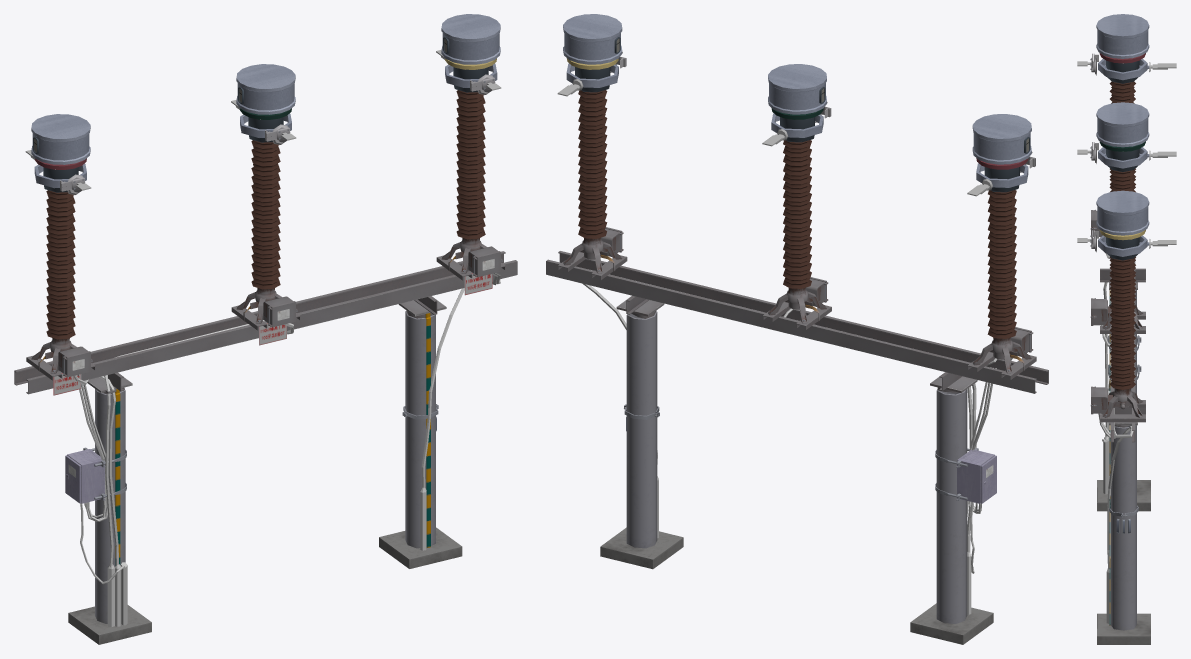
3 renders of one model, left to right at view 1: azimuth 30°, elevation 25°; view 2: azimuth 150°, elevation 25°; view 3: azimuth 270°, elevation 25°, orthographic. The views are drawn at different scales.
Parts seen in each view (by area): view 1: xd-105xl-ct, xd-105xl-ct-youweichuang, xd-105xl-ct-yinxian, xd-105xl-ct-ercijiexianhe, xd-105xl-ct-mingpai; view 2: xd-105xl-ct, xd-105xl-ct-youweichuang, xd-105xl-ct-yinxian, xd-105xl-ct-ercijiexianhe; view 3: xd-105xl-ct, xd-105xl-ct-youweichuang, xd-105xl-ct-yinxian.
Boxes of the visible parts, x1=… form: xd-105xl-ct: x1=14, y1=49, x2=517, y2=644; xd-105xl-ct-youweichuang: x1=31, y1=14, x2=500, y2=192; xd-105xl-ct-yinxian: x1=73, y1=272, x2=500, y2=626; xd-105xl-ct-ercijiexianhe: x1=65, y1=449, x2=104, y2=503; xd-105xl-ct-mingpai: x1=53, y1=273, x2=492, y2=395; xd-105xl-ct: x1=546, y1=52, x2=1048, y2=644; xd-105xl-ct-youweichuang: x1=563, y1=14, x2=1031, y2=192; xd-105xl-ct-yinxian: x1=582, y1=270, x2=1012, y2=614; xd-105xl-ct-ercijiexianhe: x1=957, y1=449, x2=996, y2=503; xd-105xl-ct: x1=1077, y1=53, x2=1176, y2=644; xd-105xl-ct-youweichuang: x1=1096, y1=14, x2=1149, y2=260; xd-105xl-ct-yinxian: x1=1098, y1=237, x2=1133, y2=623.
Size of the model in its own units: 426 by 427 by 84.65.
Materials: 6 (5 with a texture image).
